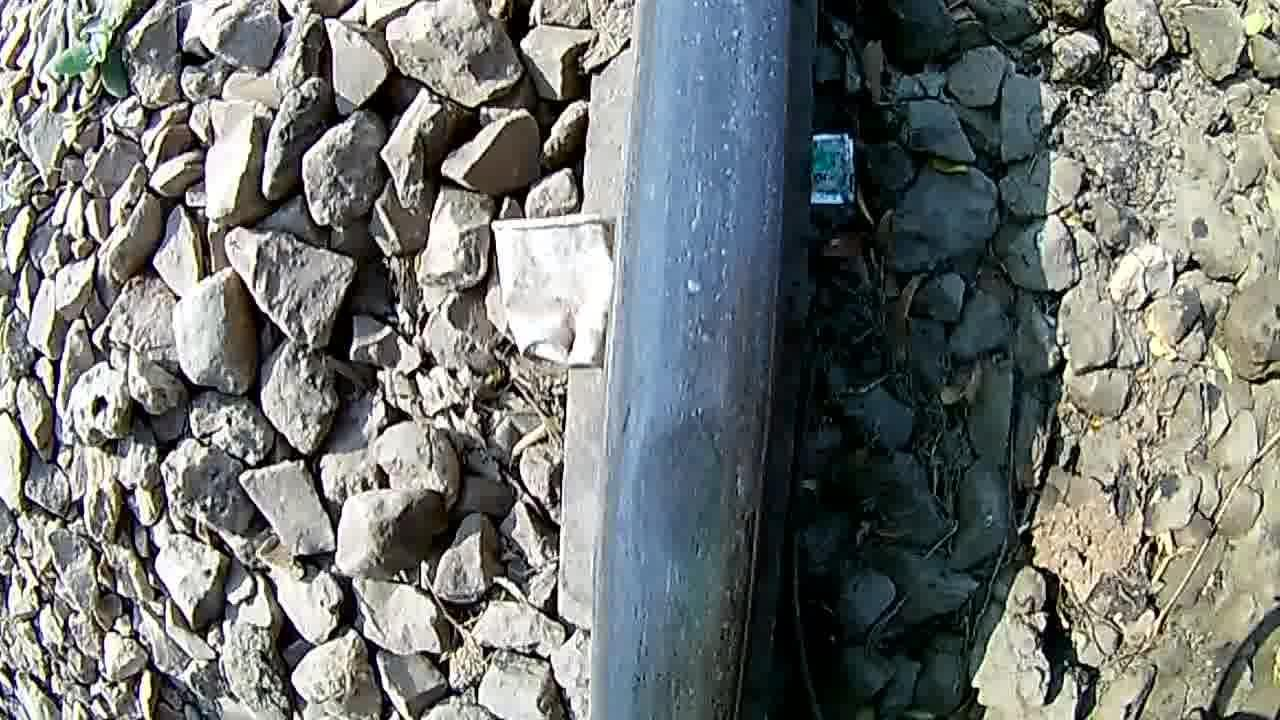crack: (604, 318, 794, 660)
